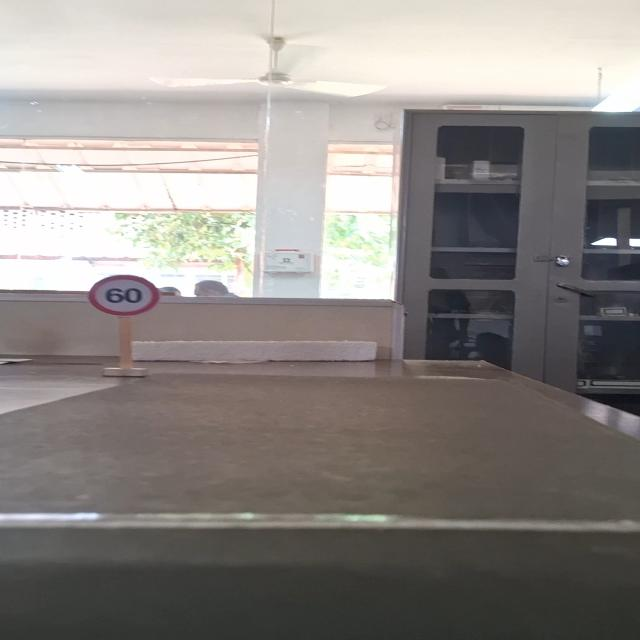Speed60: (86, 275, 161, 318)
